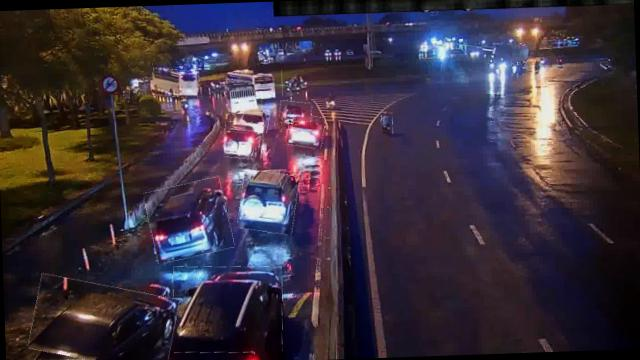Bike: (381, 113, 393, 136)
Bus: (226, 70, 282, 98), (150, 68, 198, 99)
Car: (28, 276, 178, 360), (171, 264, 284, 355), (146, 180, 233, 262), (238, 170, 299, 234), (223, 122, 264, 160), (286, 113, 325, 148), (233, 108, 270, 133), (279, 100, 312, 126)
Truck: (220, 83, 262, 114)
